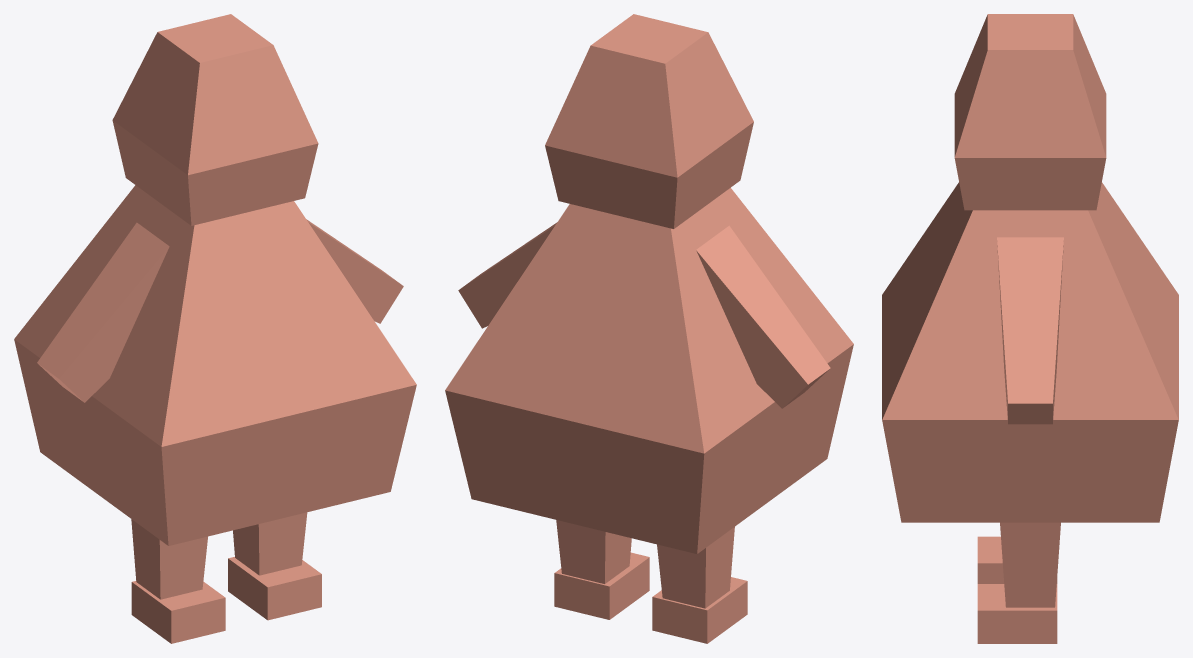
File: foofa.glb
3 views of the same model, side by side, from view 1: azimuth 30°, elevation 25°; view 2: azimuth 150°, elevation 25°; view 3: azimuth 270°, elevation 25° (orthographic).
Visible parts, largest first — view 1: Foofa; view 2: Foofa; view 3: Foofa.
Part boxes in pixels (<box>): Foofa: <box>14,14,416,643</box>; Foofa: <box>445,14,853,643</box>; Foofa: <box>882,14,1178,643</box>.
Size of the model in its own units: 1.16 by 1.83 by 0.8605.
